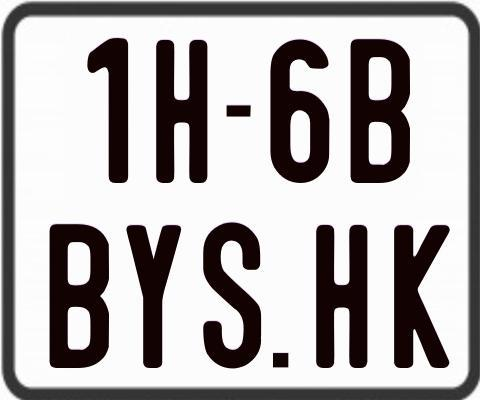1: (86, 37, 128, 185)
6: (268, 38, 328, 187)
B: (48, 221, 107, 369), (350, 38, 409, 185)
H: (314, 223, 371, 368), (155, 37, 208, 183)
K: (392, 223, 450, 370)
S: (203, 221, 264, 368)
Y: (123, 224, 183, 371)
